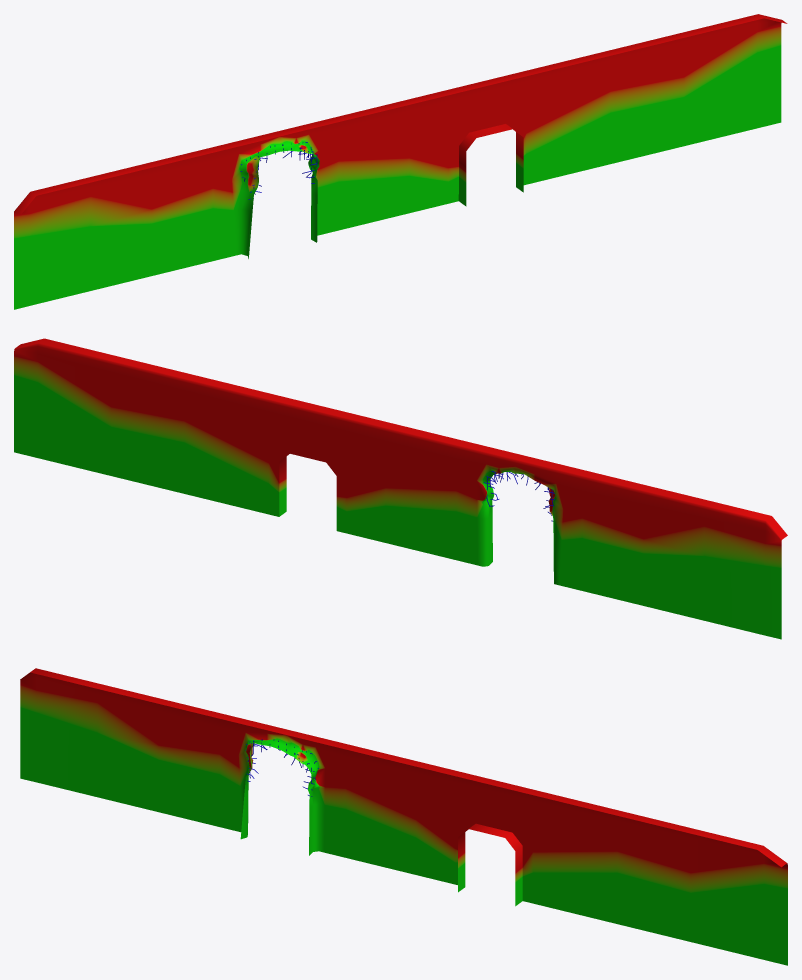
File: M_Wall.FBX
The picture shows the model from 3 angles, top to bottom: view 1: azimuth 30°, elevation 25°; view 2: azimuth 150°, elevation 25°; view 3: azimuth 330°, elevation 25°; orthographic projection.
Parts seen in each view (by area): view 1: Wall; view 2: Wall; view 3: Wall.
Part boxes in pixels (x1,y1,x2,y2): Wall: (14, 14, 787, 309); Wall: (14, 338, 787, 639); Wall: (20, 668, 787, 965).
Bounding box in the file's own units: 4759 × 681 × 98.32.
